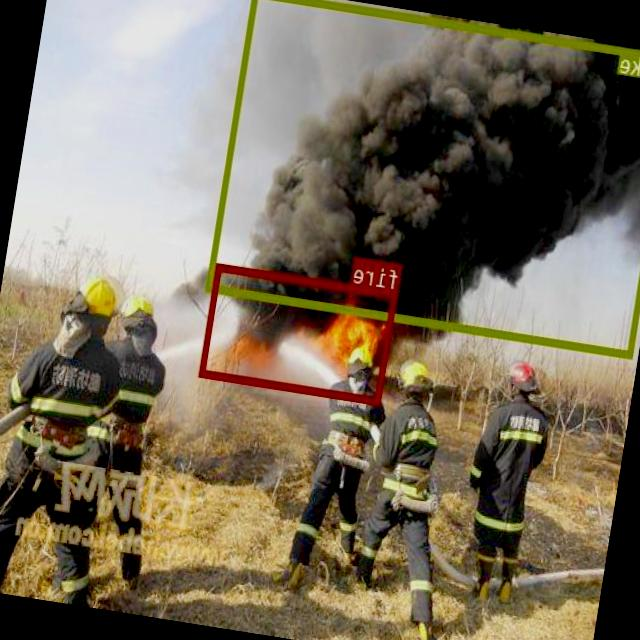fire: (200, 262, 398, 404)
smoke: (207, 0, 640, 357)
